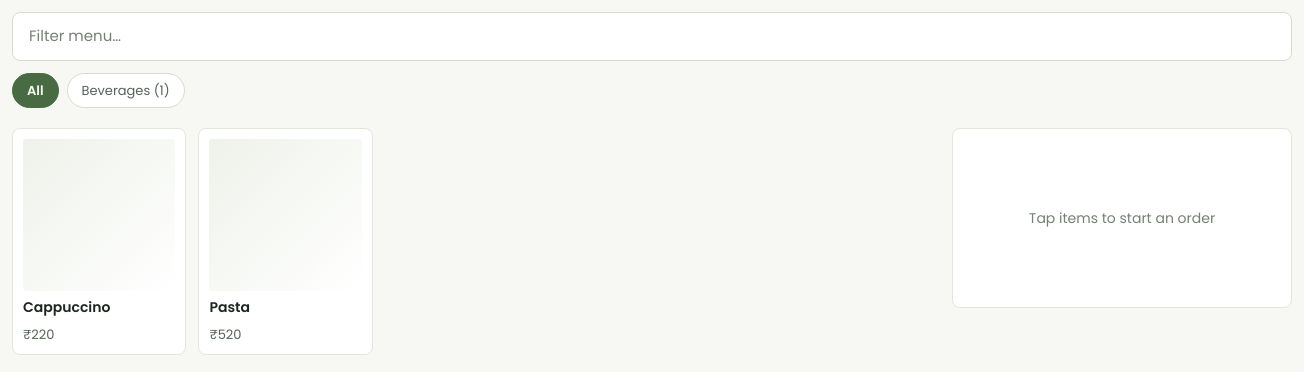
MenuPage › side cart can decrease quantity and remove an item (no more stacking-only)
What coordinates should you click on to do the following:
click the button with aria-label "Add Cappuccino"
I would click on:
 (99, 242)
Its box is [12,128,186,355].
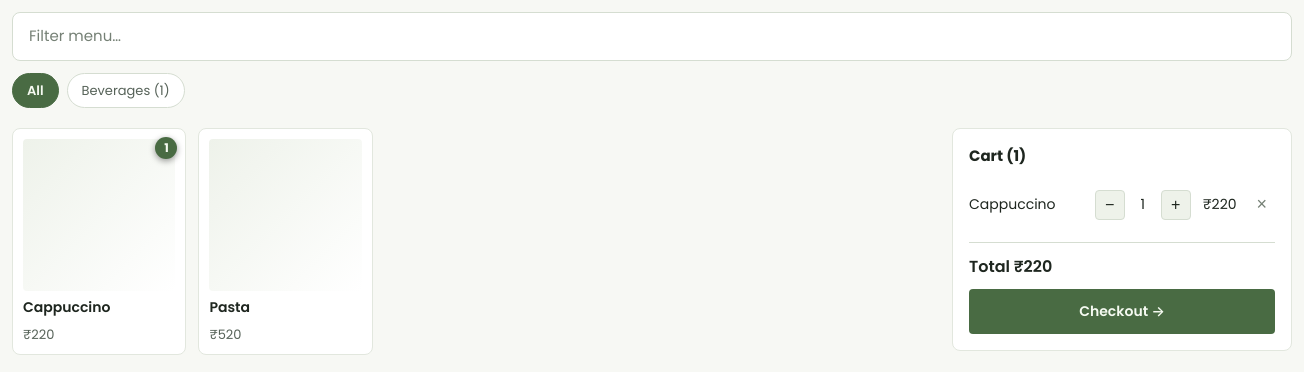
What coordinates should you click on to do the following:
click the button with aria-label "Add Cappuccino"
I would click on:
 (99, 242)
Its box is [12,128,186,355].
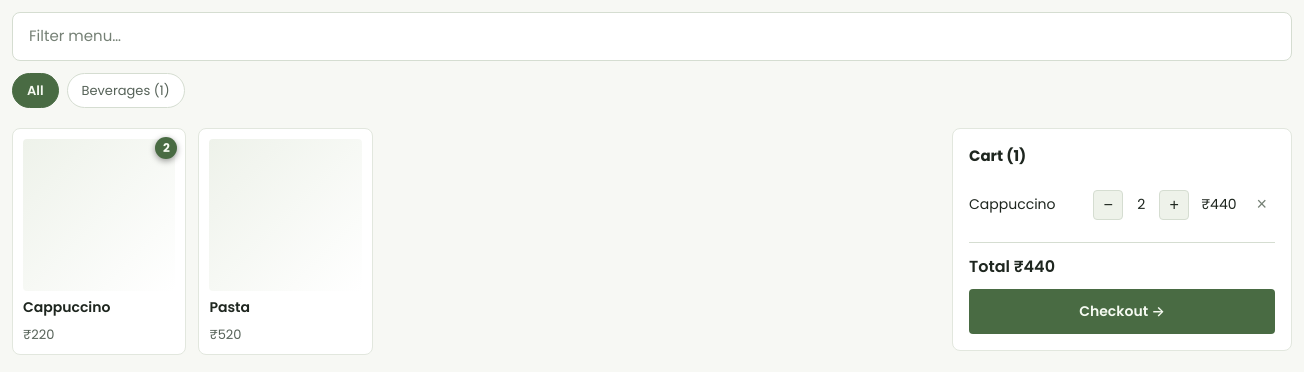
Result: the text with test id "side-cart-total" shows "₹440" at [1014,254,1055,278]
What coordinates should you click on to do the following:
click the button named "Decrease"
I would click on:
 (1108, 204)
Its box is [1093,190,1123,220].
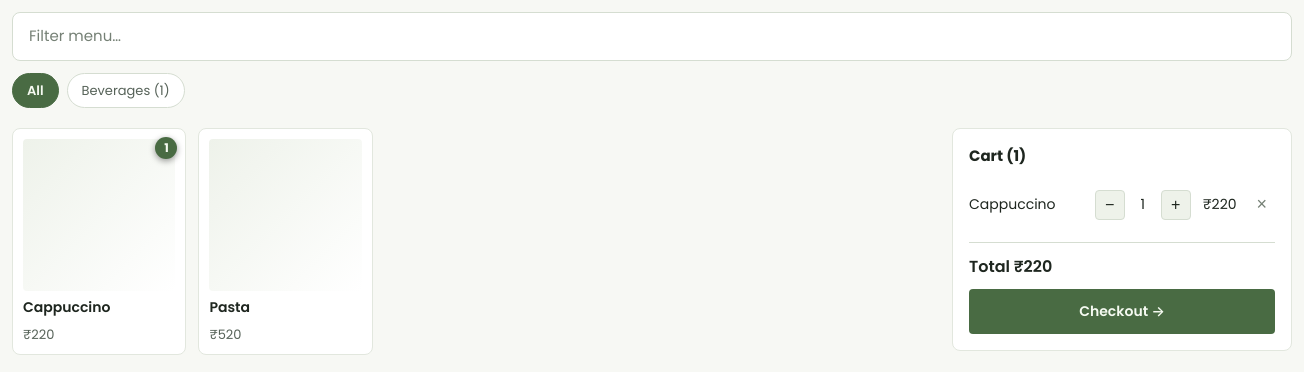
Result: the text with test id "side-cart-total" shows "₹220" at [1014,254,1052,278]
What coordinates should you click on to do the following:
click the button named "Remove"
I would click on:
 (1262, 204)
Its box is [1248,190,1275,219].
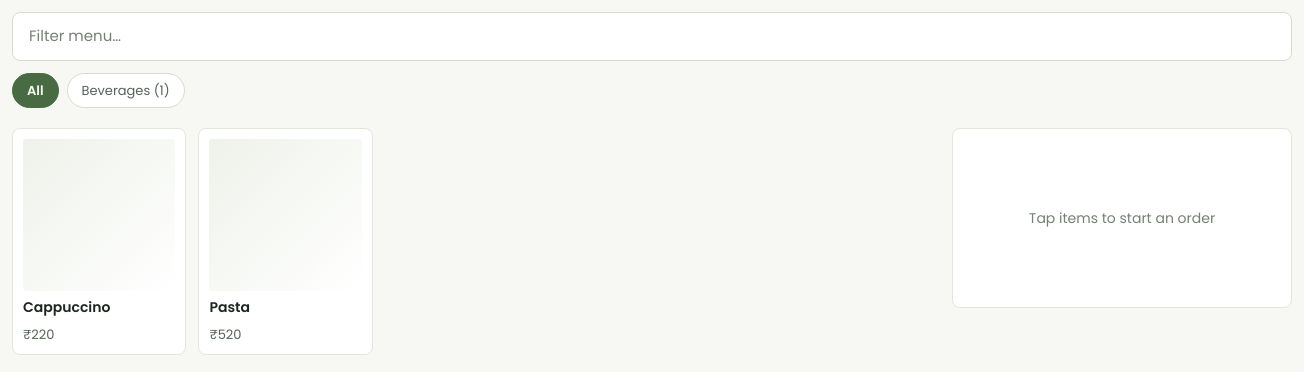
Result: the text "Tap items to start an order" is shown at [952,128,1292,308]
